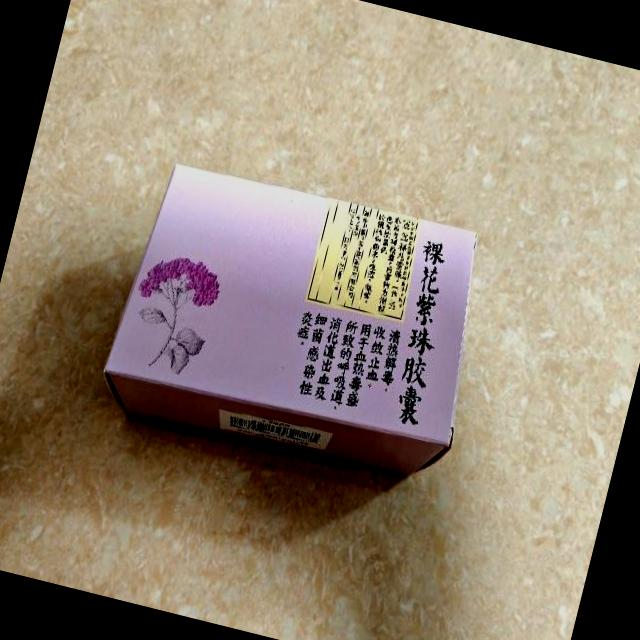box: (92, 152, 505, 494)
